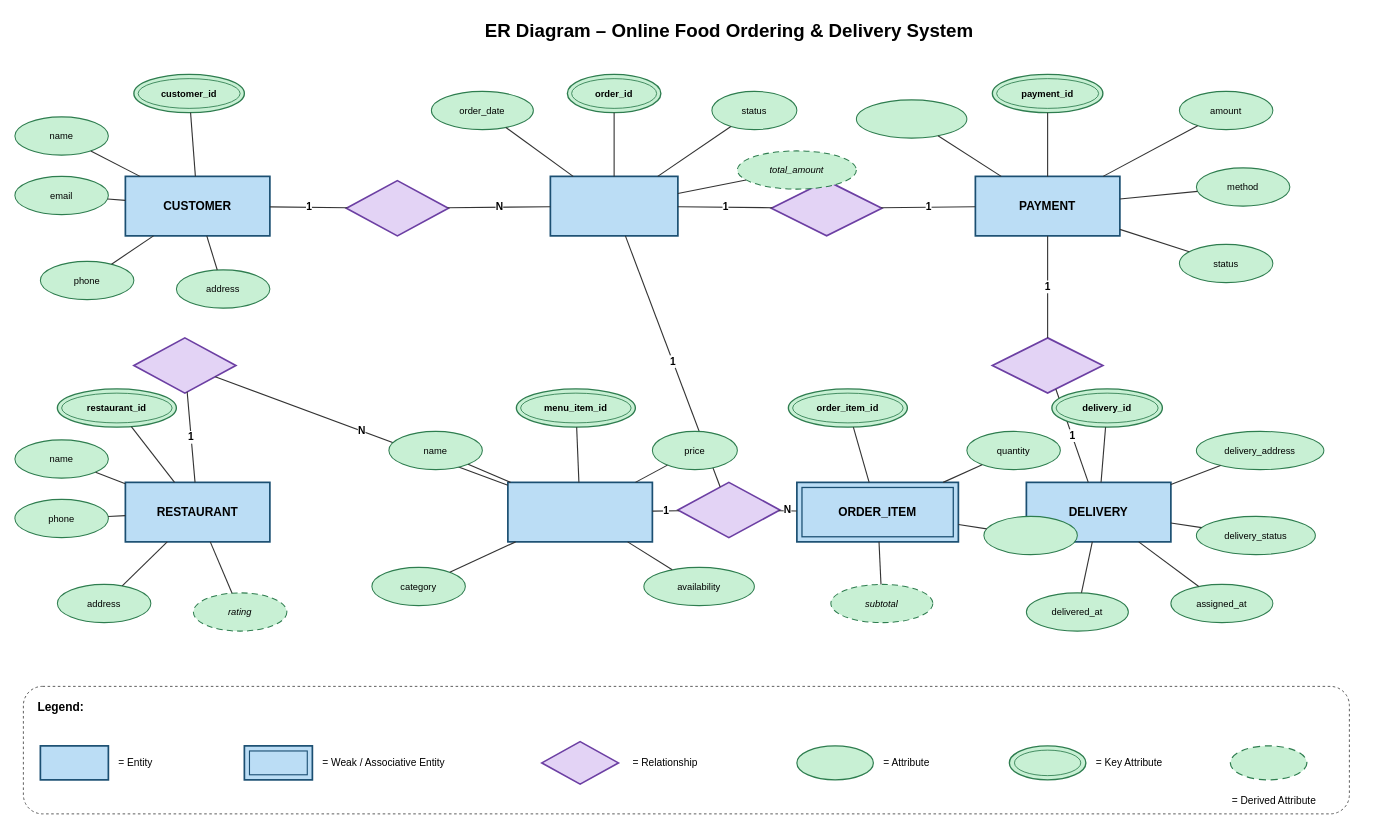
Image size: 1398x832. Some labels were removed from this diagram. The centre of each missing label's shape, as x and y in pixels:
"HAS_DELIVERY" belongs at point (1047, 365).
"HAS_MENU" belongs at point (184, 365).
"HAS_PAYMENT" belongs at point (826, 207).
"INCLUDES" belongs at point (728, 509).
"MENU_ITEM" belongs at point (580, 511).
"ORDER" belongs at point (613, 205).
"payment_date" belongs at point (911, 118).
"PLACES" belongs at point (397, 207).
"unit_price" belongs at point (1030, 535).
